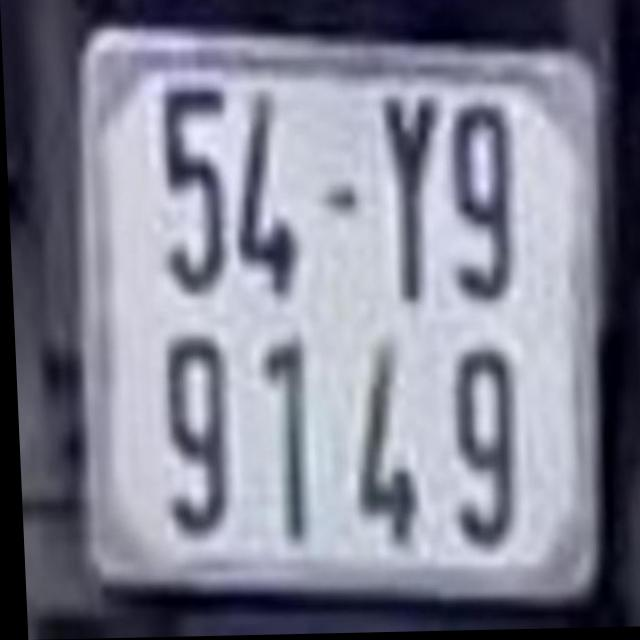1: (249, 339, 306, 547)
4: (231, 92, 297, 293), (348, 346, 414, 539)
5: (160, 91, 225, 290)
9: (159, 339, 236, 536), (444, 351, 514, 548), (447, 106, 514, 299)
Y: (377, 99, 438, 305)
